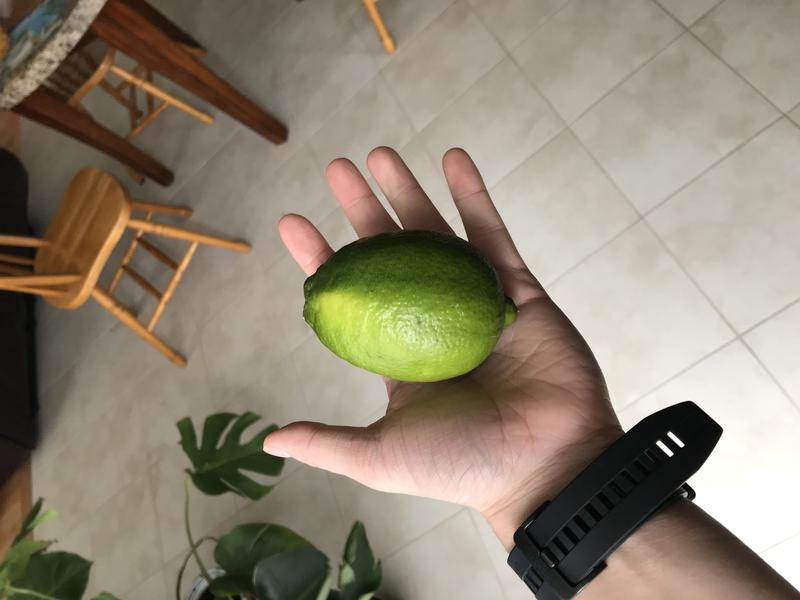lime: (287, 222, 529, 385)
